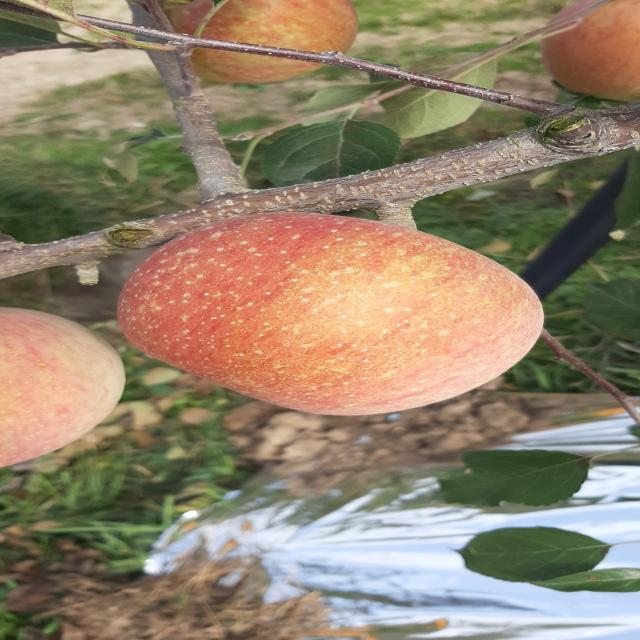fresh: (109, 203, 571, 428)
